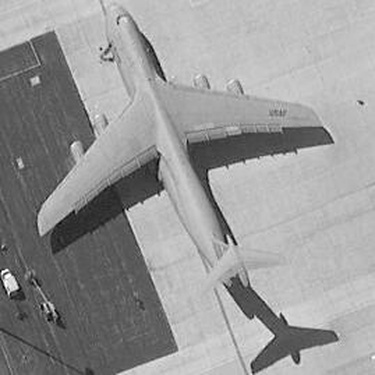airplane: (10, 1, 339, 307)
